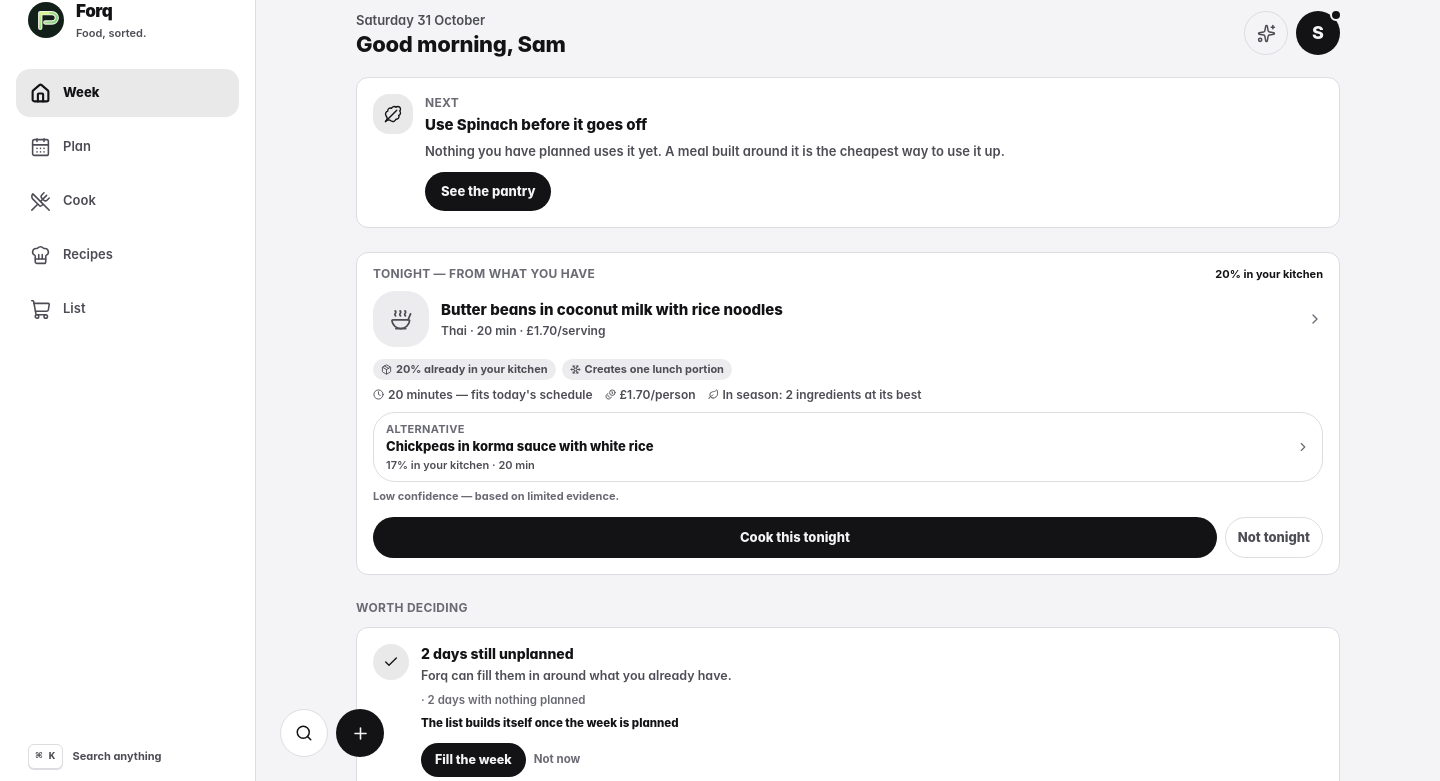
Test case: the prediction row routes to the planner › a tap plans a meal around the at-risk item
Click the button "List" at point(128, 309), box [16,285,239,333]
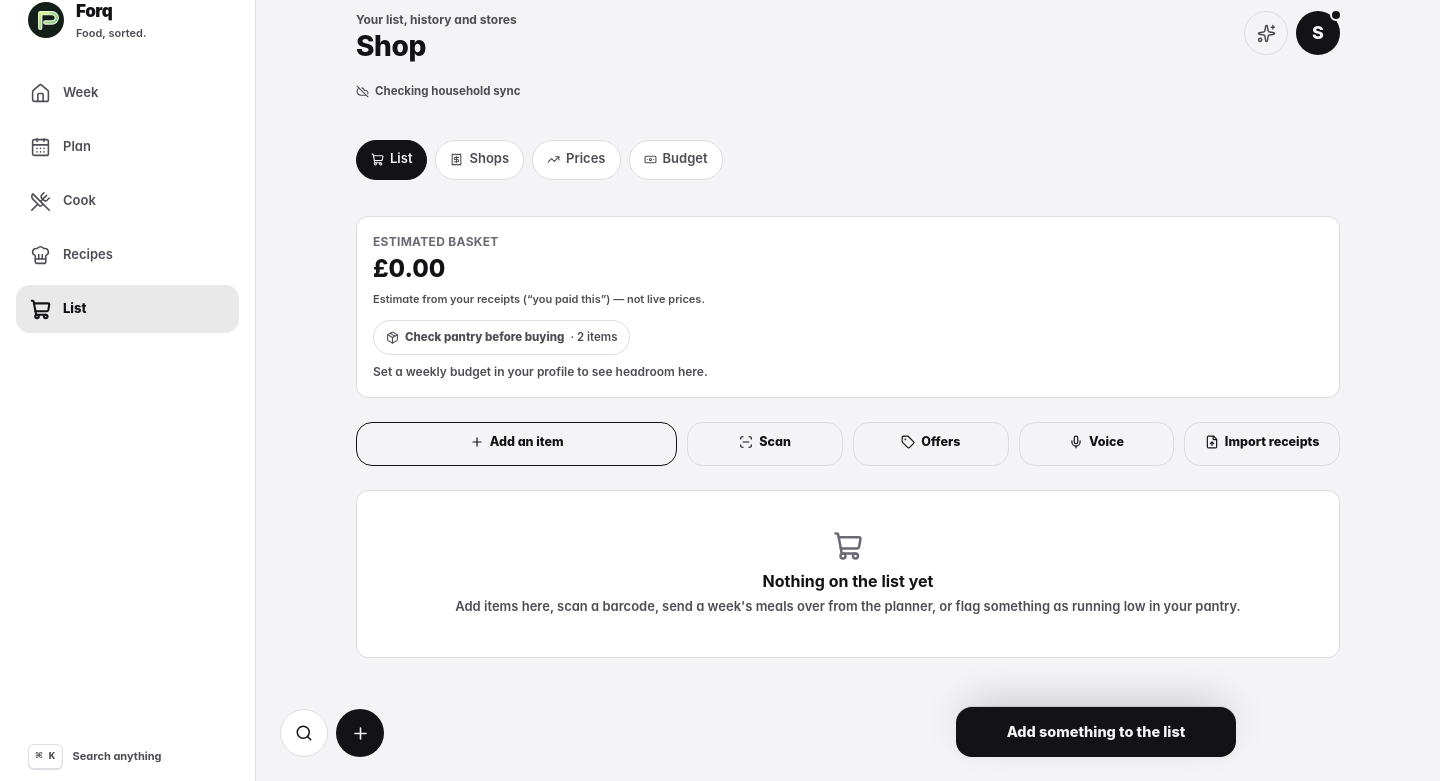
Click the button "Week" at point(128, 93), box [16,69,239,117]
(page scrolled)
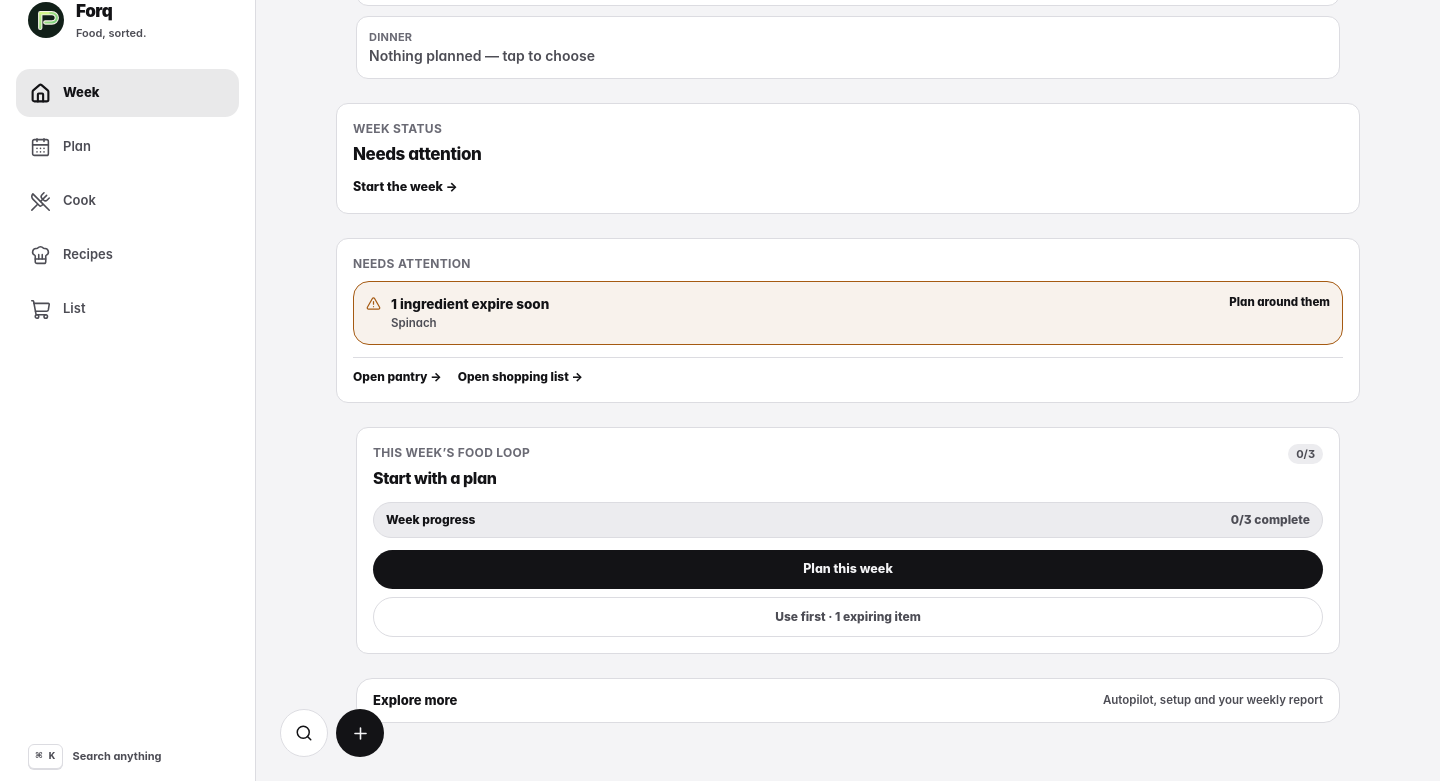
Click the button "Open pantry →" at point(397, 377), box [353,368,442,386]
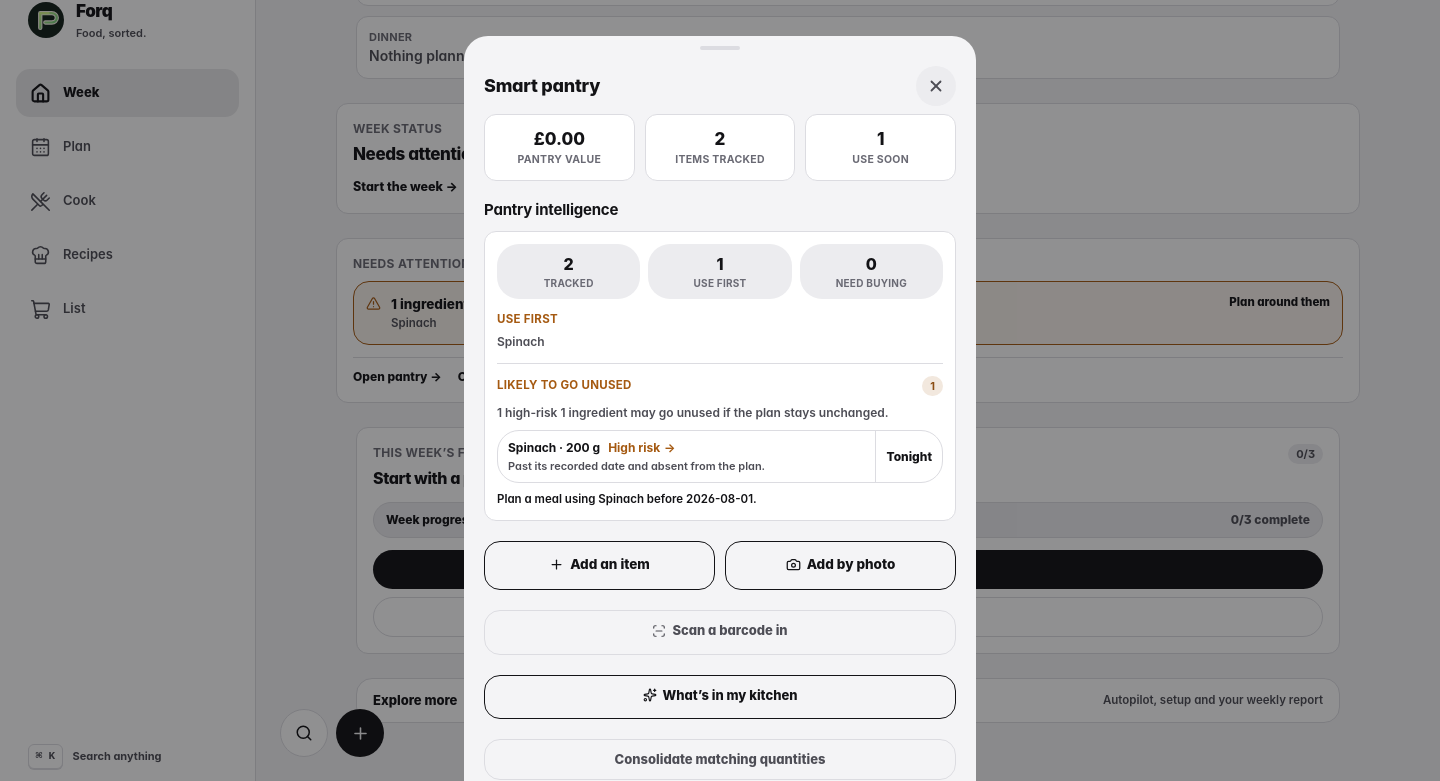
Expected: the text "Likely to go unused" is shown, [497,377,632,394]
Click the button with aria-label "Plan a meal using Spinach" at point(687, 457), box [498,431,876,482]
(page scrolled)
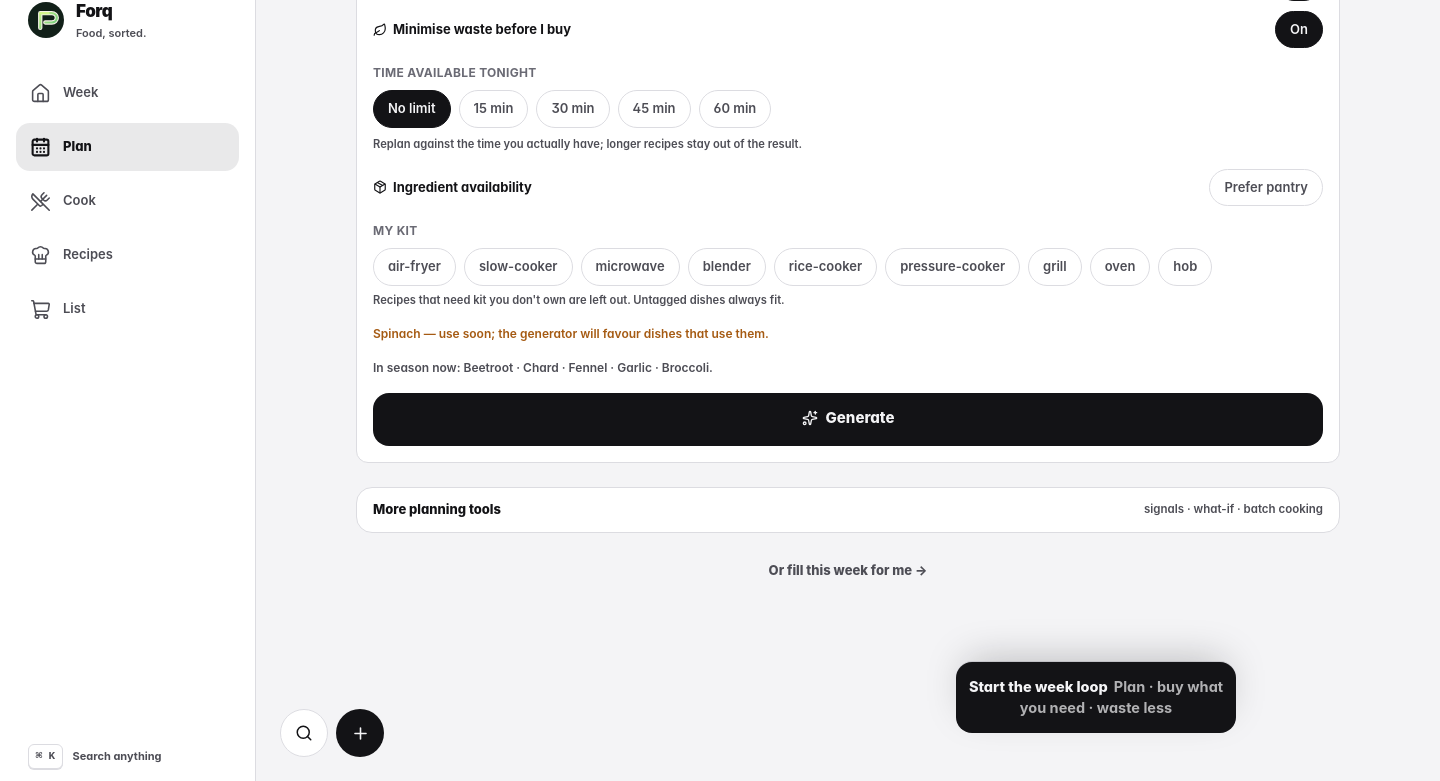
Expected: the text "Spinach — use soon; the generator will favour dishes that use them" is shown, [373,326,769,340]
Expected: the heading "Smart pantry" is gone
Click the button "Generate" at point(848, 419), box [373,392,1323,446]
(page scrolled)
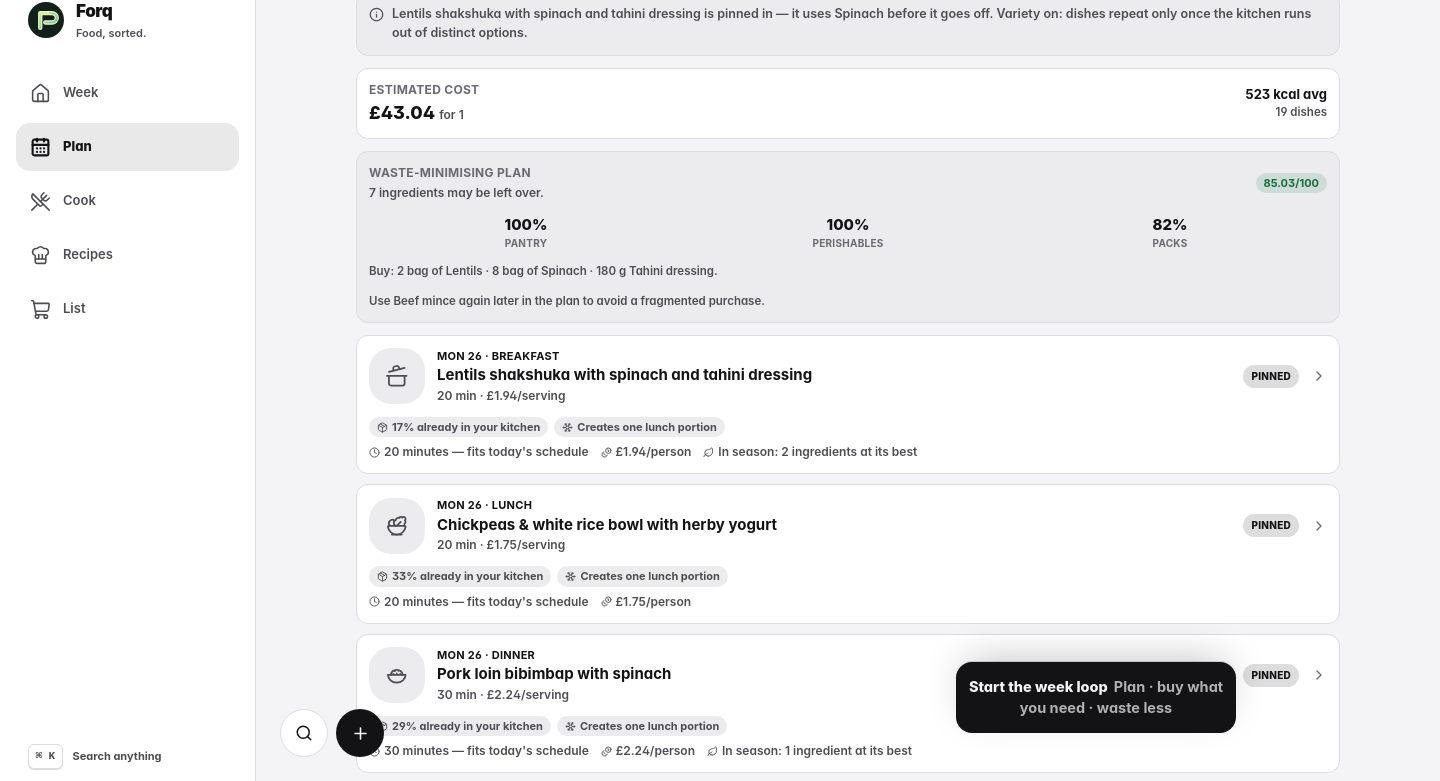
Expected: the text "is pinned in — it uses Spinach before it goes off" is shown, [392,6,1311,40]
Expected: the 1st text "Pinned" is shown, [1244,365,1299,388]
